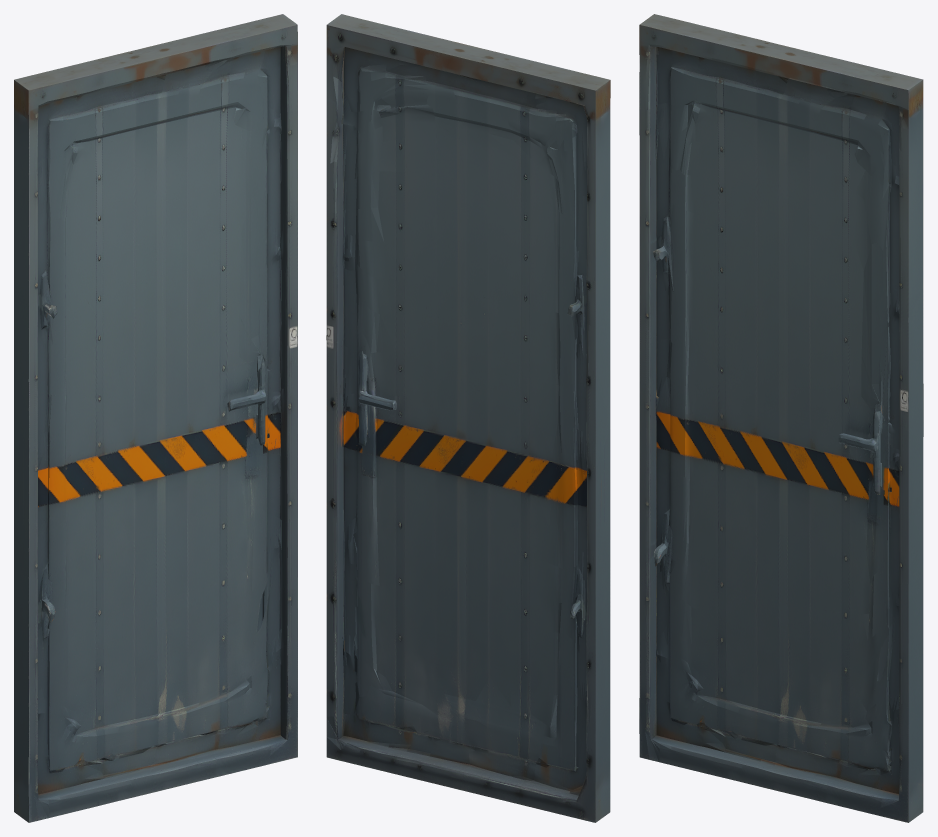
Rendered from door_leaf.gltf.
3 views of the same model, side by side, from view 1: azimuth 30°, elevation 25°; view 2: azimuth 150°, elevation 25°; view 3: azimuth 330°, elevation 25° (orthographic).
Visible parts, largest first — view 1: Leaf; view 2: Leaf; view 3: Leaf.
Part boxes in pixels (<box>): Leaf: <box>14,14,297,822</box>; Leaf: <box>326,14,610,822</box>; Leaf: <box>639,14,923,822</box>.
Bounding box in the file's own units: 1 × 2.6 × 0.15.
1 material, 1 textured.
